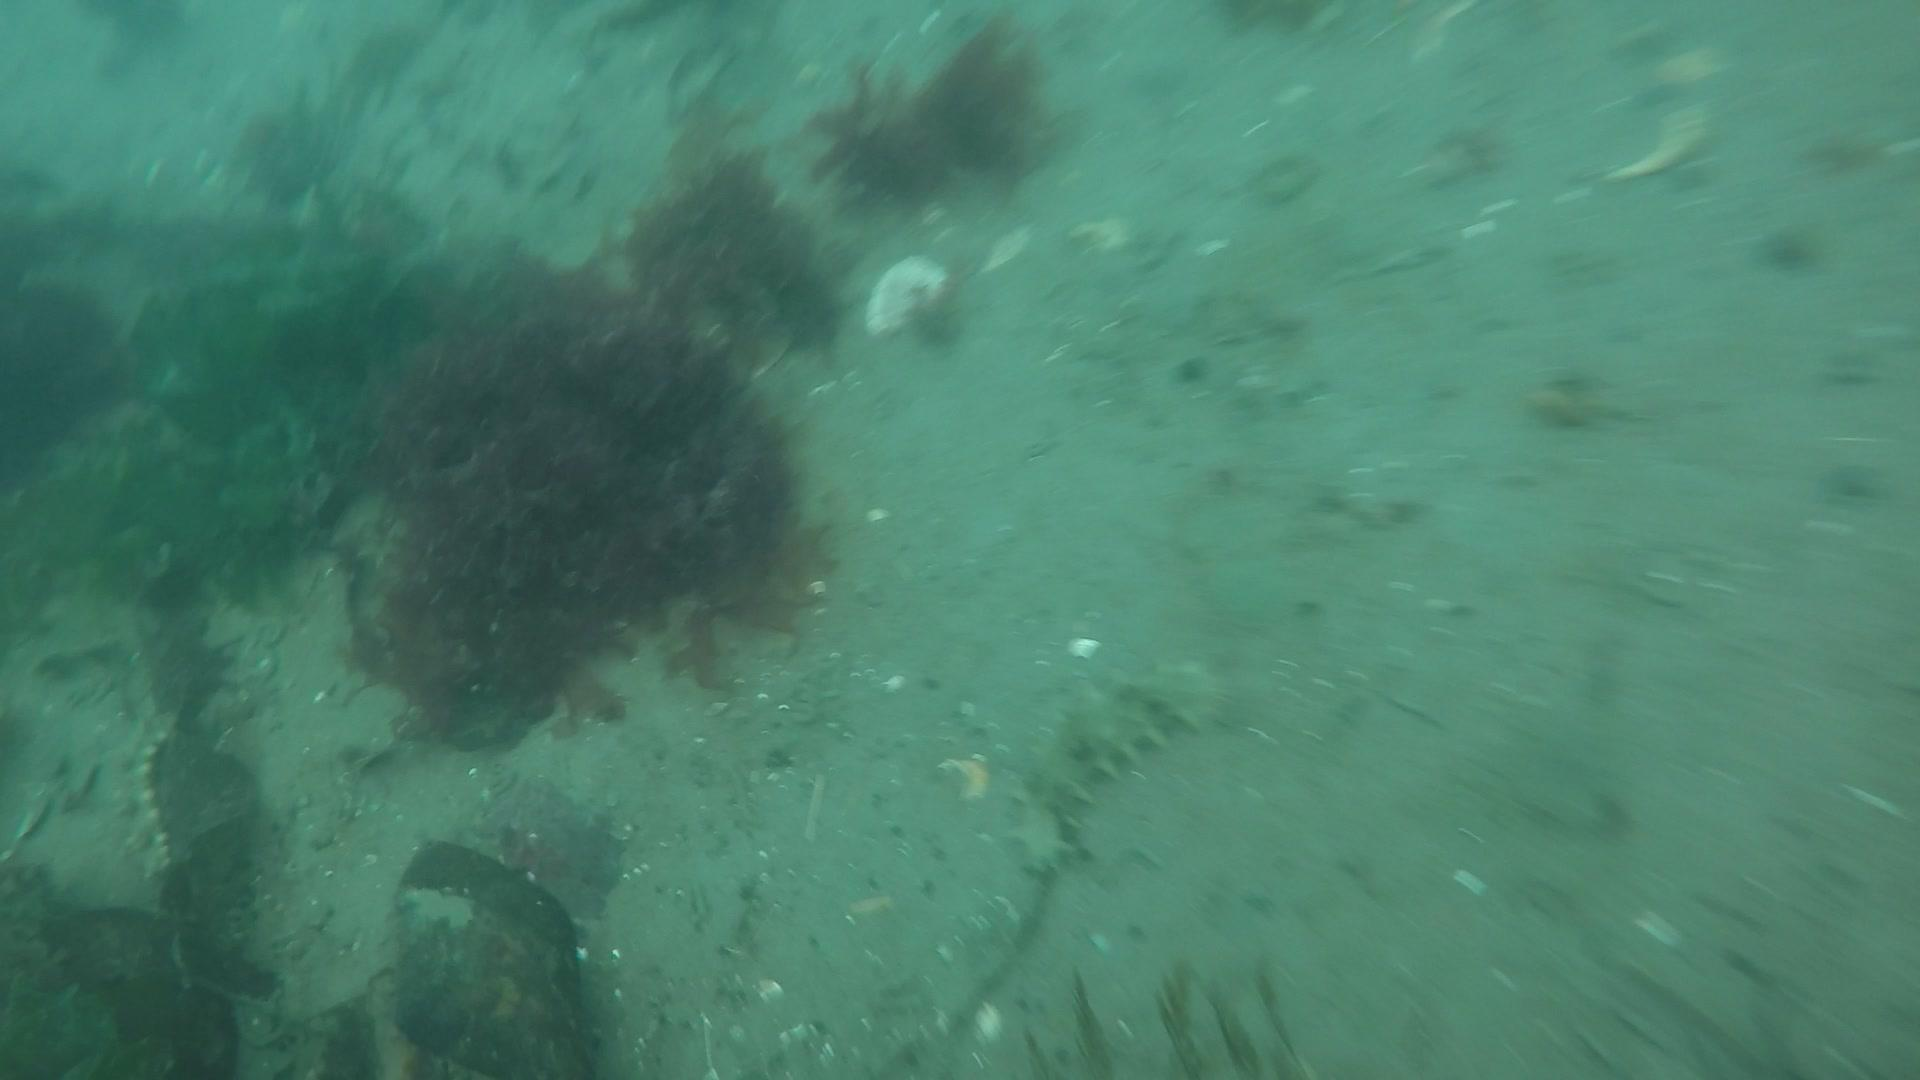holothurian: (1000, 678, 1208, 881)
scallop: (860, 252, 953, 345)
